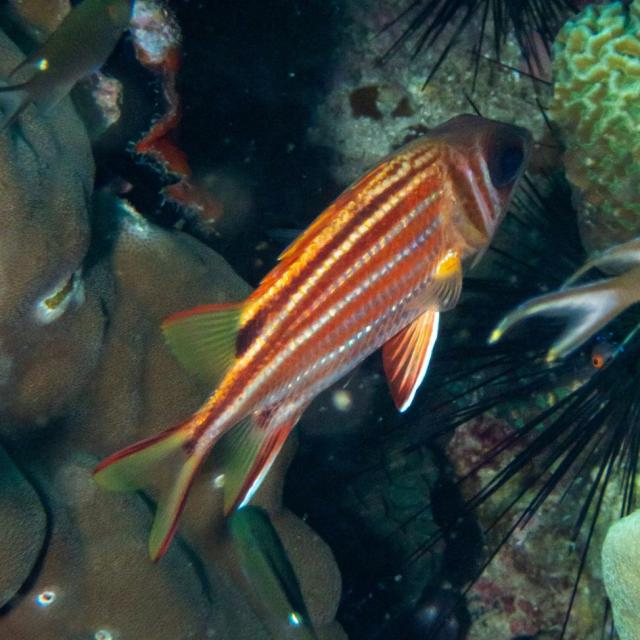Asker Baligi: (85, 73, 562, 572)
